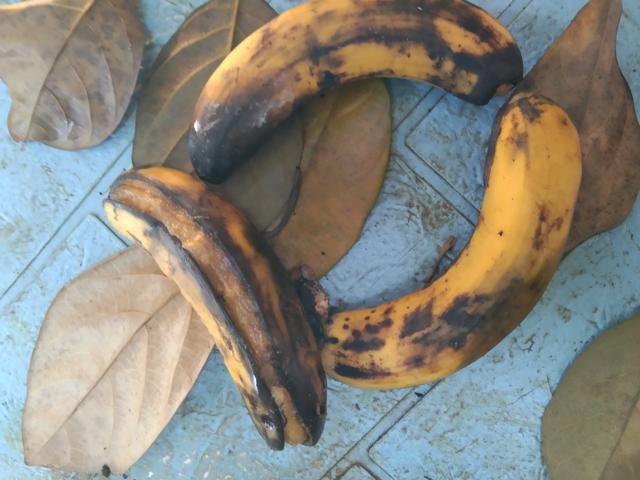overripe: (342, 95, 593, 391), (147, 0, 524, 164)
rotten: (79, 175, 347, 479)
